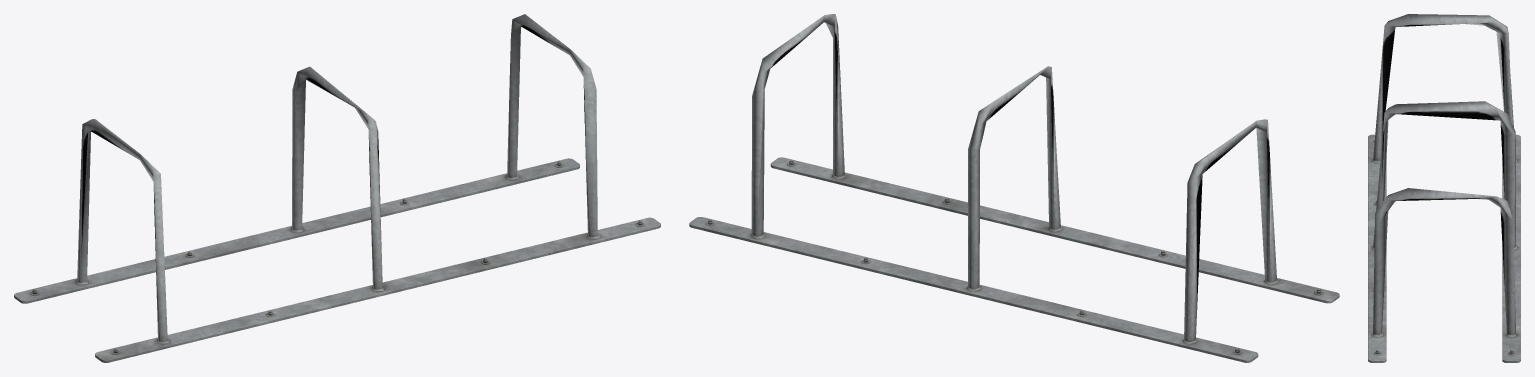
File: bike-rack.glb
3 renders of one model, left to right at view 1: azimuth 30°, elevation 25°; view 2: azimuth 150°, elevation 25°; view 3: azimuth 270°, elevation 25°, orthographic. The views are drawn at different scales.
Visible parts, largest first — view 1: bike-rack_body; view 2: bike-rack_body; view 3: bike-rack_body.
Boxes of the visible parts, x1=… form: bike-rack_body: x1=14, y1=14, x2=660, y2=362; bike-rack_body: x1=689, y1=14, x2=1339, y2=362; bike-rack_body: x1=1368, y1=14, x2=1520, y2=362.
Bounding box in the file's own units: 2.6 × 0.79 × 0.7418.
Materials: 1 (1 with a texture image).
